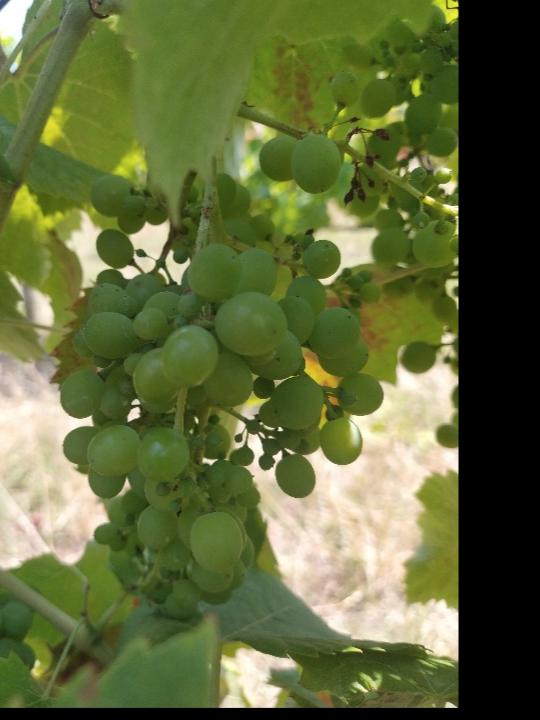grape: (54, 68, 387, 626)
